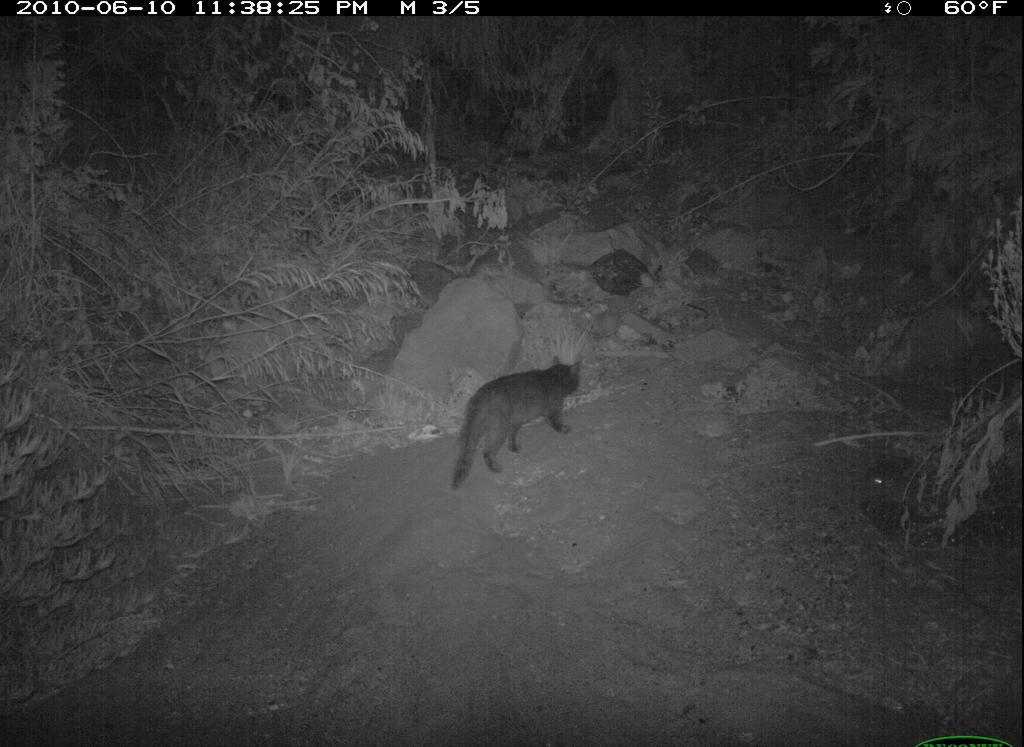cat: (455, 349, 592, 500)
